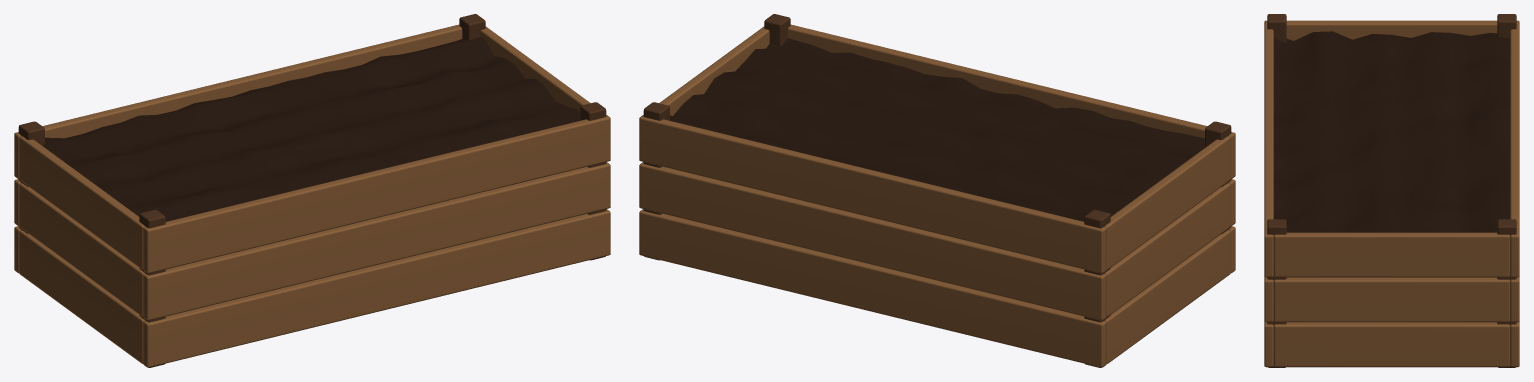
The model's file is raised_bed.glb.
The picture shows the model from 3 angles, left to right: view 1: azimuth 30°, elevation 25°; view 2: azimuth 150°, elevation 25°; view 3: azimuth 270°, elevation 25°; orthographic projection. The views are drawn at different scales.
Parts seen in each view (by area): view 1: Body; view 2: Body; view 3: Body.
Boxes of the visible parts, bbox=[...] form: Body: bbox=[14, 14, 610, 367]; Body: bbox=[639, 14, 1235, 367]; Body: bbox=[1264, 14, 1519, 367].
Bounding box in the file's own units: 1.6 × 0.49 × 0.8.
